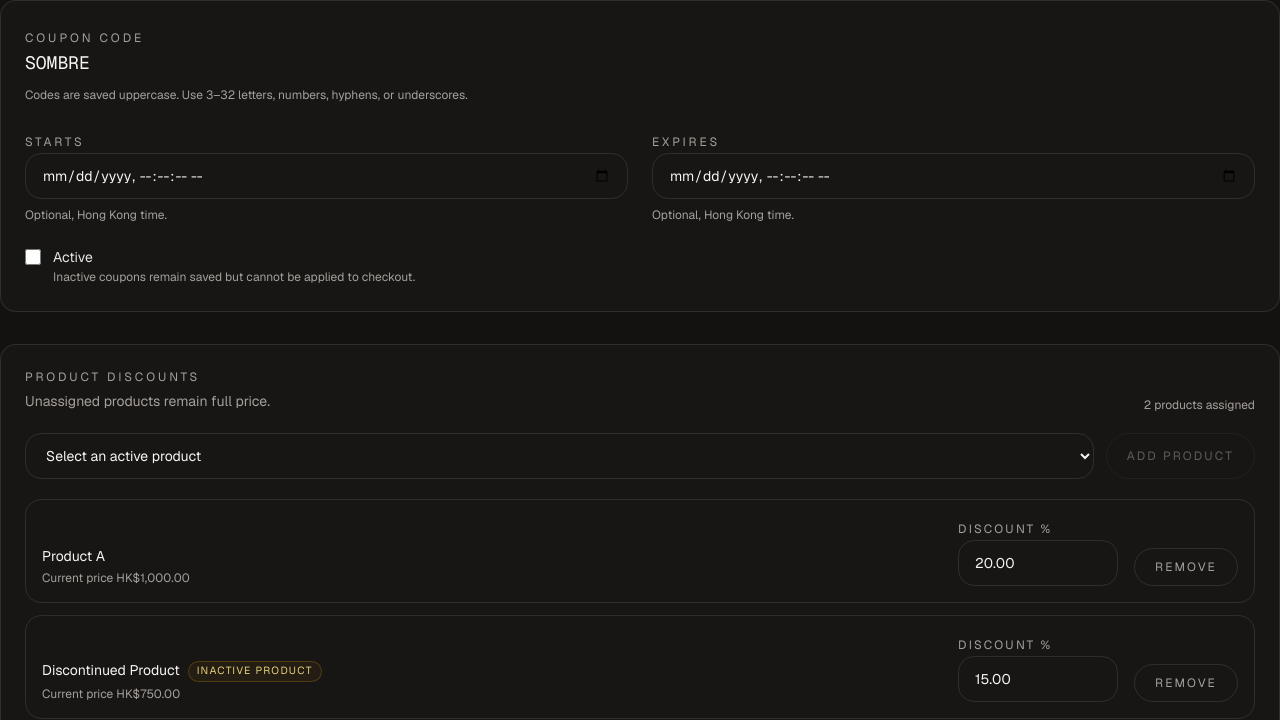
admin coupon form › only removes the inactive assignment the admin explicitly removes
Click the button with aria-label "Remove Discontinued Product assignment" at (1186, 683), box [1134,664,1238,702]
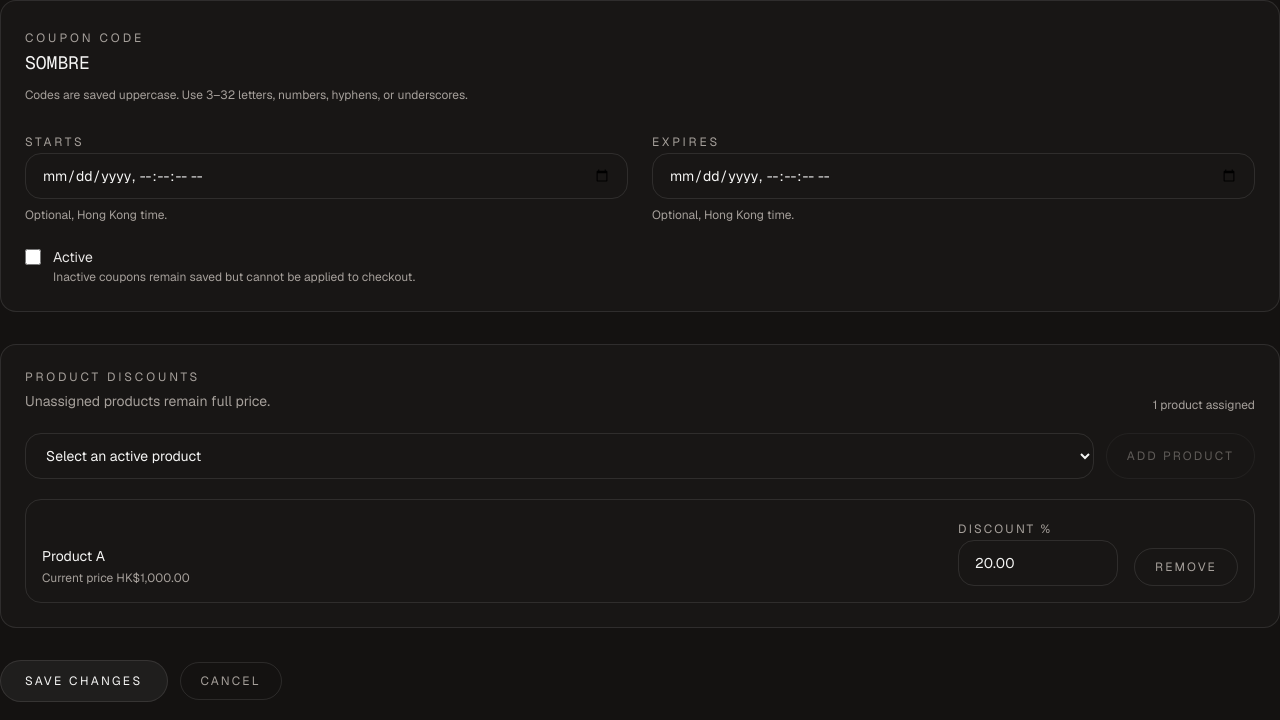
Expected: the text "Product A" is shown, [42,547,105,565]
Result: the text "1 product assigned" is shown at [1153,397,1255,413]
Result: the text "Discontinued Product" is gone
